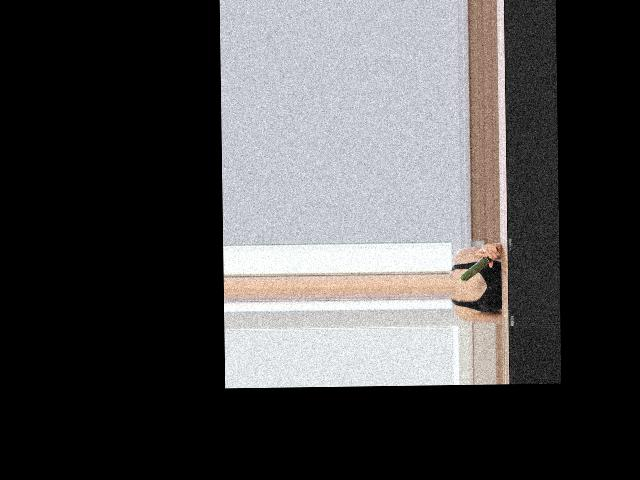cucumber: (459, 247, 499, 281)
